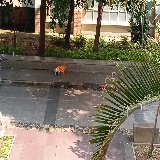fire: (56, 65, 66, 74)
